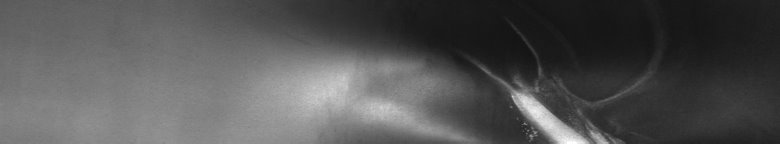ke: (471, 24, 645, 136)
